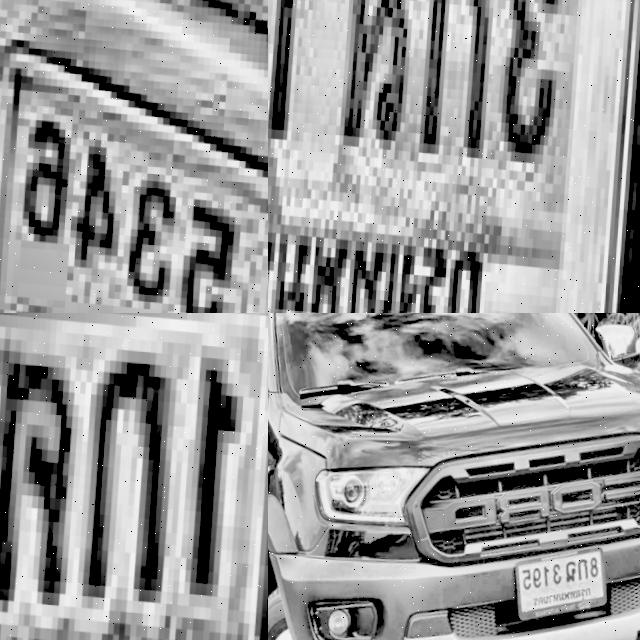license-plate: (268, 0, 640, 313), (0, 313, 268, 640), (0, 11, 268, 313), (512, 530, 616, 628)
